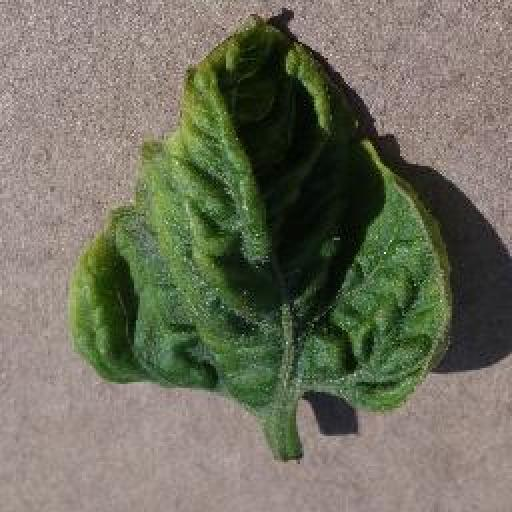disease_tomato: (70, 12, 454, 409)
